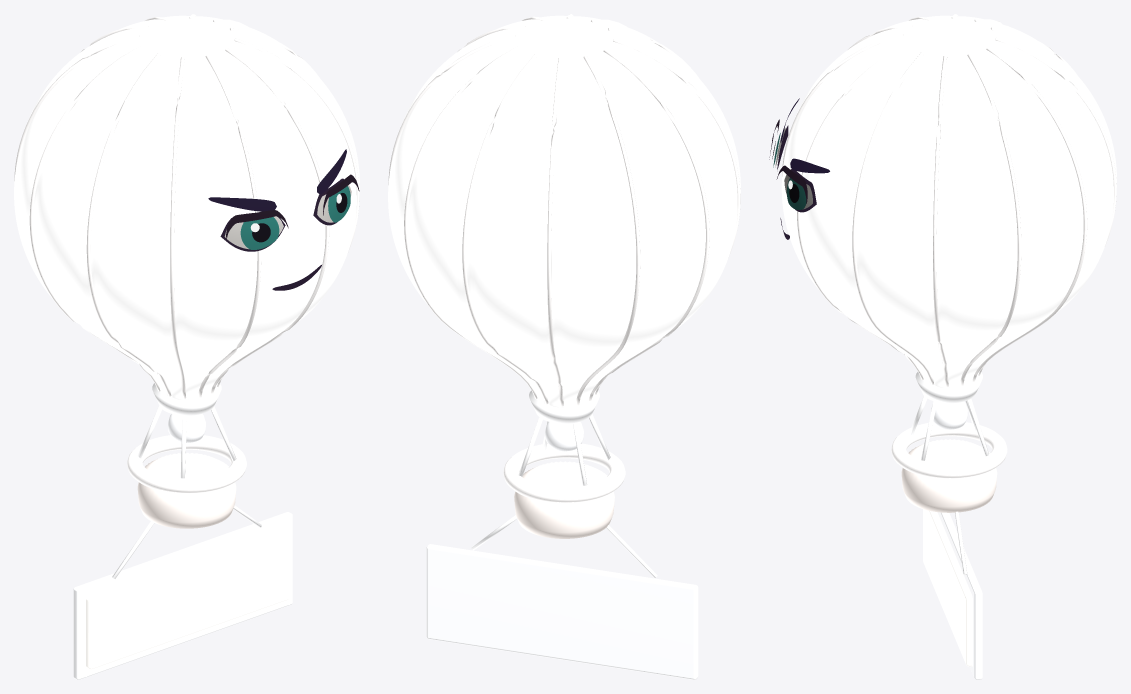
File: balon.glb
The picture shows the model from 3 angles, left to right: view 1: azimuth 30°, elevation 25°; view 2: azimuth 150°, elevation 25°; view 3: azimuth 270°, elevation 25°; orthographic projection. The views are drawn at different scales.
Visible parts, largest first — view 1: balon_zarf, tabela_levha, tabela_cerceve, sepet_govde, sepet_kenar, yuk_serit_9, yuk_serit_10, yuk_serit_8, yuk_serit_0, yuk_serit_11, balon_boyun, yuk_serit_1 (+4 smaller); view 2: balon_zarf, tabela_cerceve, sepet_govde, sepet_kenar, yuk_serit_8, yuk_serit_5, yuk_serit_7, yuk_serit_6, yuk_serit_4, balon_boyun, yuk_serit_9, brulor_govde (+1 smaller); view 3: balon_zarf, sepet_govde, tabela_levha, sepet_kenar, tabela_cerceve, yuk_serit_1, yuk_serit_3, yuk_serit_4, yuk_serit_2, yuk_serit_0, balon_boyun, yuk_serit_5 (+2 smaller).
Part boxes in pixels (<box>): balon_zarf: <box>14,15,359,399</box>; tabela_levha: <box>86,526,288,669</box>; tabela_cerceve: <box>73,512,292,679</box>; sepet_govde: <box>137,452,236,528</box>; sepet_kenar: <box>127,435,246,493</box>; yuk_serit_9: <box>86,53,171,396</box>; yuk_serit_10: <box>170,57,186,398</box>; yuk_serit_8: <box>29,45,160,391</box>; yuk_serit_0: <box>210,48,329,393</box>; yuk_serit_11: <box>198,55,261,397</box>; balon_boyun: <box>152,383,221,415</box>; yuk_serit_1: <box>217,38,359,386</box>; balon_zarf: <box>388,15,740,407</box>; tabela_cerceve: <box>426,544,698,679</box>; sepet_govde: <box>514,461,614,538</box>; sepet_kenar: <box>503,443,625,503</box>; yuk_serit_8: <box>588,48,709,400</box>; yuk_serit_5: <box>462,54,548,404</box>; yuk_serit_7: <box>575,55,640,405</box>; yuk_serit_6: <box>547,57,563,406</box>; yuk_serit_4: <box>404,45,537,398</box>; balon_boyun: <box>529,390,599,423</box>; yuk_serit_9: <box>595,38,740,394</box>; brulor_govde: <box>545,422,583,451</box>; balon_zarf: <box>781,15,1116,387</box>; sepet_govde: <box>901,439,997,512</box>; tabela_levha: <box>923,509,972,666</box>; sepet_kenar: <box>891,422,1007,478</box>; tabela_cerceve: <box>937,512,982,679</box>; yuk_serit_1: <box>852,52,933,384</box>; yuk_serit_3: <box>960,53,1021,385</box>; yuk_serit_4: <box>972,47,1087,381</box>; yuk_serit_2: <box>933,55,948,386</box>; yuk_serit_0: <box>797,44,923,379</box>; balon_boyun: <box>915,372,982,403</box>; yuk_serit_5: <box>978,37,1116,375</box>.
Size of what is drawn, in the model's own units: 1.99 by 3.88 by 2.06.
